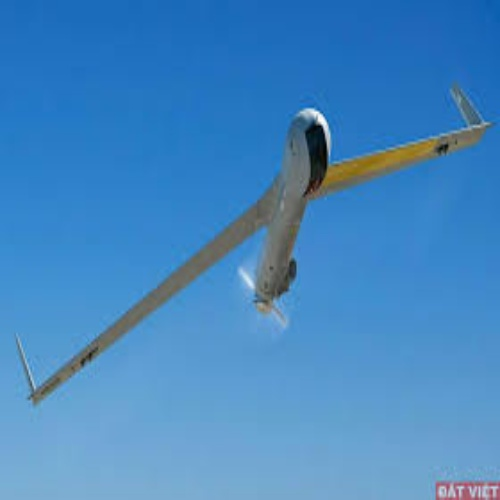uav: (15, 81, 494, 407)
